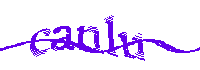a: (52, 25, 74, 52)
c: (30, 28, 52, 57)
l: (105, 12, 119, 62)
n: (74, 23, 102, 54)
u: (120, 32, 146, 61)
